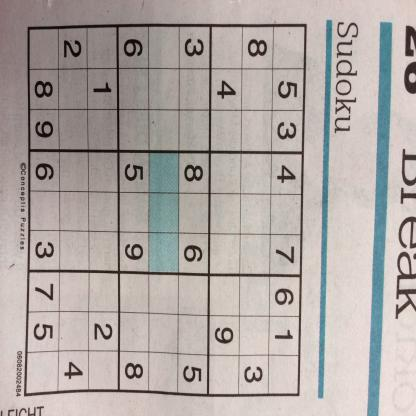sudoku: (22, 19, 309, 401)
